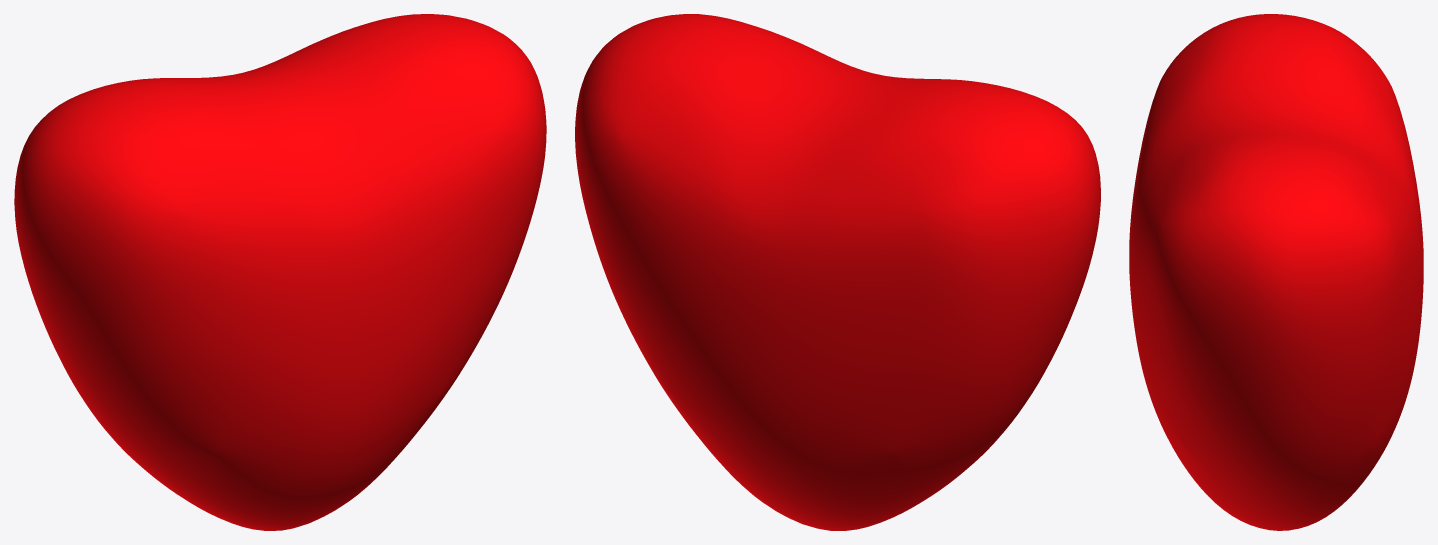
The model's file is Finalwork_heart.fbx.
3 renders of one model, left to right at view 1: azimuth 30°, elevation 25°; view 2: azimuth 150°, elevation 25°; view 3: azimuth 270°, elevation 25°, orthographic. The views are drawn at different scales.
Parts seen in each view (by area): view 1: Cube; view 2: Cube; view 3: Cube.
Boxes of the visible parts, <box> form: Cube: <box>14,14,546,530</box>; Cube: <box>575,14,1100,530</box>; Cube: <box>1129,14,1423,530</box>.
Size of the model in its own units: 226 by 199 by 124.
